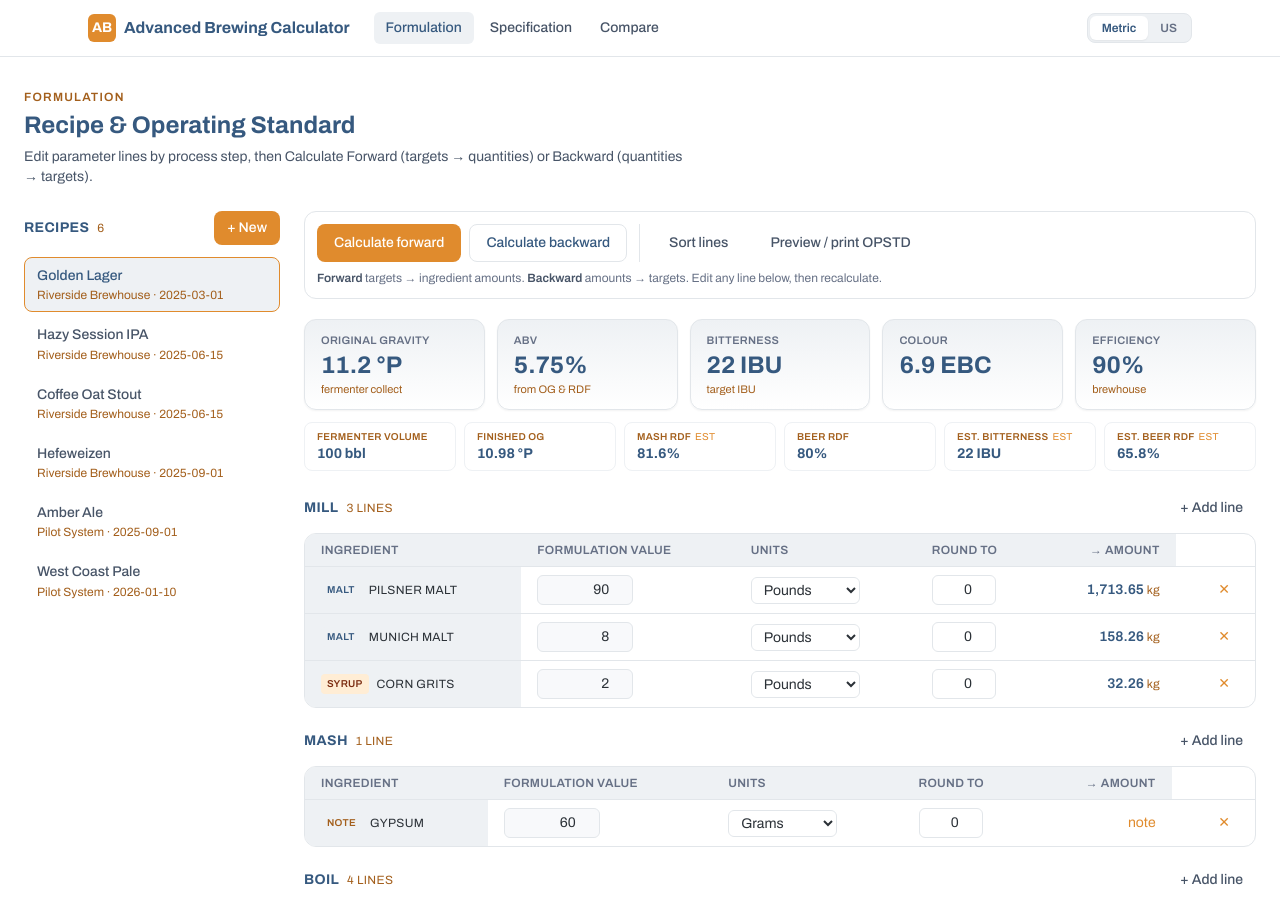
it: FormulationPage › toggles the OPSTD preview
The image size is (1280, 900).
Click the button "Preview / print OPSTD".
click(841, 243)  # box [753,224,928,262]
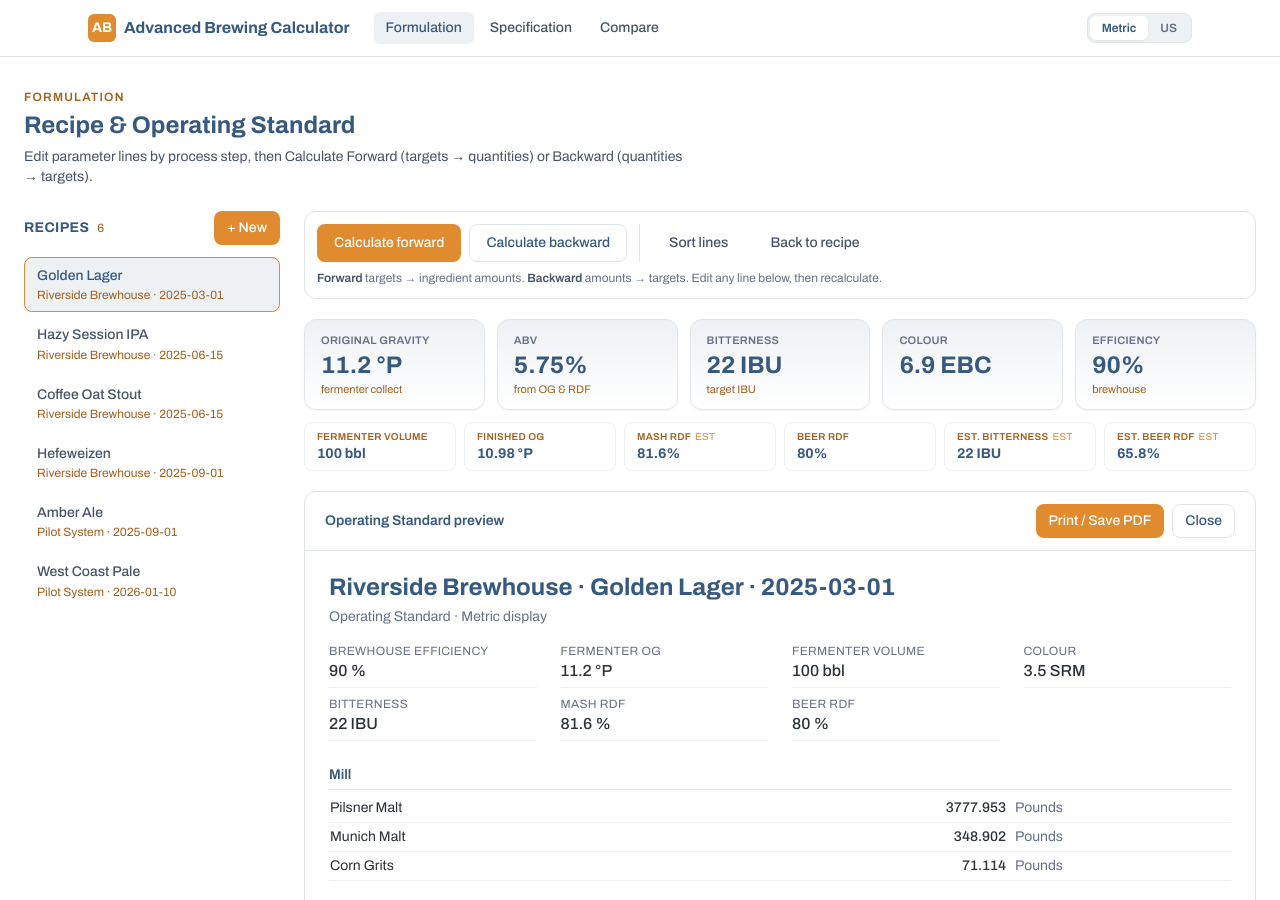
Expected: the text "Operating Standard preview" is shown, [325,511,504,531]
